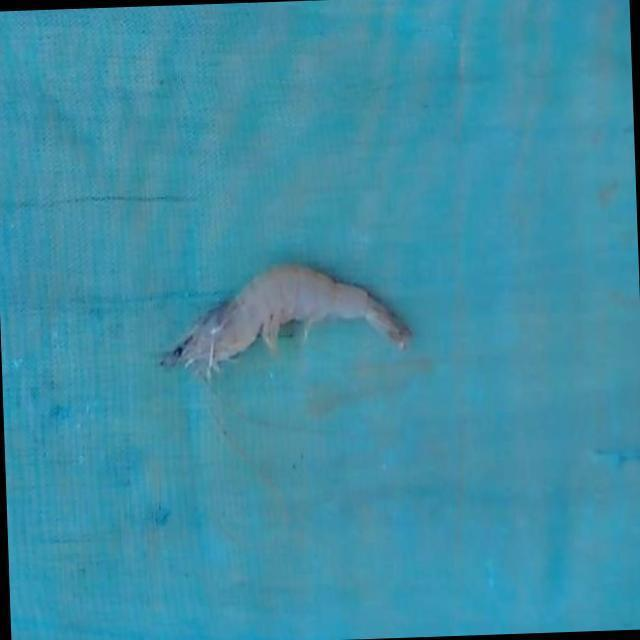shrimp: (160, 265, 411, 379)
